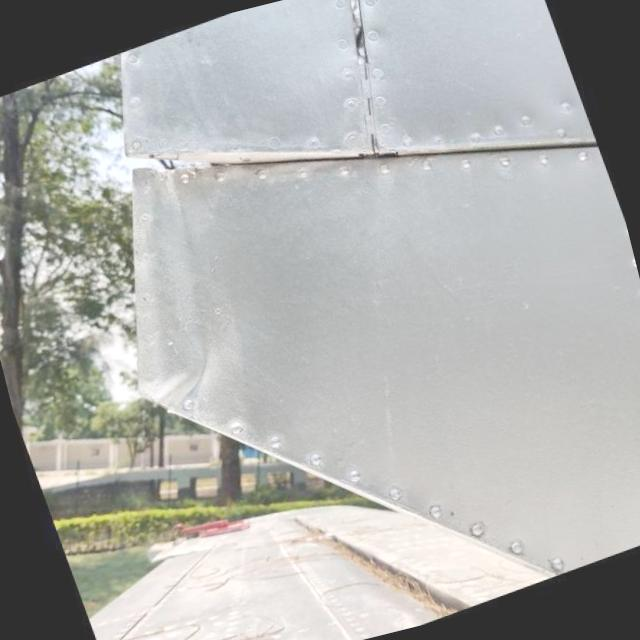dent: (126, 324, 221, 431)
